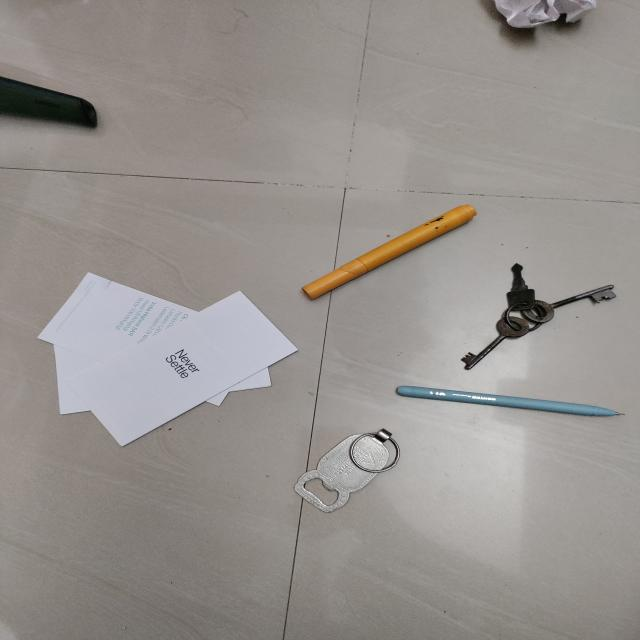metal: (464, 259, 617, 369), (288, 426, 406, 514)
paper: (37, 272, 295, 446), (489, 0, 599, 37)
plastic: (302, 202, 477, 299), (394, 384, 624, 421), (0, 73, 101, 130)
